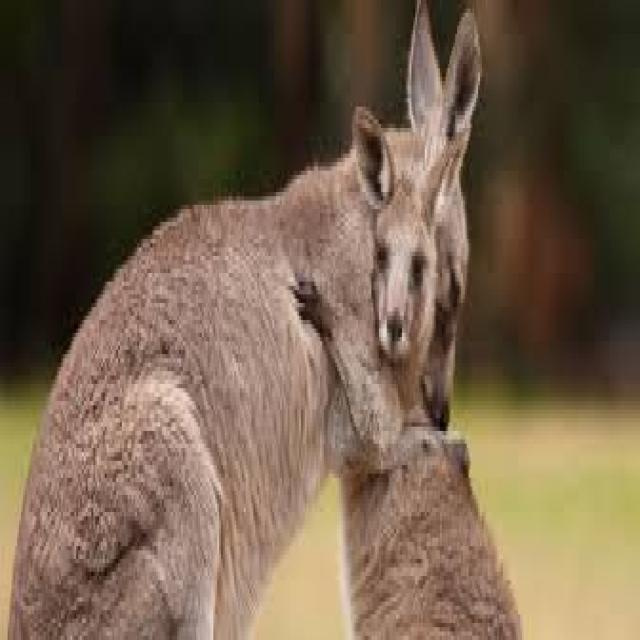Kangaroo: (8, 0, 484, 640), (295, 106, 529, 640)
